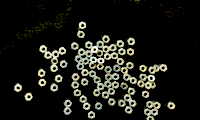nut: (14, 84, 23, 93), (59, 47, 67, 56), (64, 100, 73, 108), (77, 31, 86, 39), (117, 40, 125, 49), (25, 94, 33, 102), (39, 79, 47, 87), (44, 52, 52, 60), (51, 58, 59, 66), (60, 61, 68, 69), (55, 75, 63, 83), (64, 108, 72, 116), (79, 22, 87, 30), (88, 112, 96, 120), (74, 90, 82, 98), (72, 82, 80, 90), (77, 63, 85, 71), (75, 56, 83, 64), (78, 49, 86, 57), (81, 79, 89, 87), (82, 58, 90, 66), (89, 71, 97, 79), (102, 92, 110, 100), (105, 74, 113, 82), (108, 88, 116, 96), (108, 99, 116, 107), (112, 82, 120, 90), (117, 58, 125, 66), (128, 38, 136, 46), (121, 83, 129, 91), (124, 95, 132, 103), (129, 100, 137, 108), (128, 88, 136, 96), (160, 65, 168, 73), (148, 75, 156, 83), (38, 69, 45, 78), (51, 84, 58, 93), (128, 48, 135, 57), (119, 100, 126, 109), (40, 46, 47, 54), (52, 51, 60, 58), (51, 65, 58, 73), (72, 43, 79, 51), (84, 103, 91, 111), (80, 96, 87, 104), (72, 74, 80, 81), (96, 103, 103, 111), (86, 42, 93, 50), (93, 90, 101, 97), (97, 84, 105, 91), (91, 47, 99, 54), (90, 57, 98, 64), (89, 63, 97, 70), (94, 77, 101, 85), (97, 64, 105, 71), (97, 50, 104, 58), (97, 41, 104, 49), (103, 36, 110, 44), (103, 46, 110, 54), (105, 53, 112, 61), (105, 67, 113, 74), (105, 81, 112, 89), (110, 44, 117, 52), (113, 74, 120, 82), (114, 65, 121, 73), (119, 48, 126, 56), (127, 62, 134, 70), (121, 68, 129, 75), (124, 74, 131, 82), (125, 107, 133, 114), (130, 77, 137, 85), (138, 81, 145, 89), (140, 74, 148, 81), (140, 65, 147, 73), (149, 82, 157, 89), (143, 91, 150, 99), (147, 101, 154, 109), (145, 109, 152, 117), (168, 103, 176, 110), (152, 109, 159, 117), (154, 102, 161, 110), (82, 70, 89, 77), (86, 51, 93, 58), (98, 58, 105, 65), (112, 53, 119, 60), (149, 67, 156, 74), (146, 82, 152, 90), (154, 65, 160, 72), (147, 116, 155, 120)
